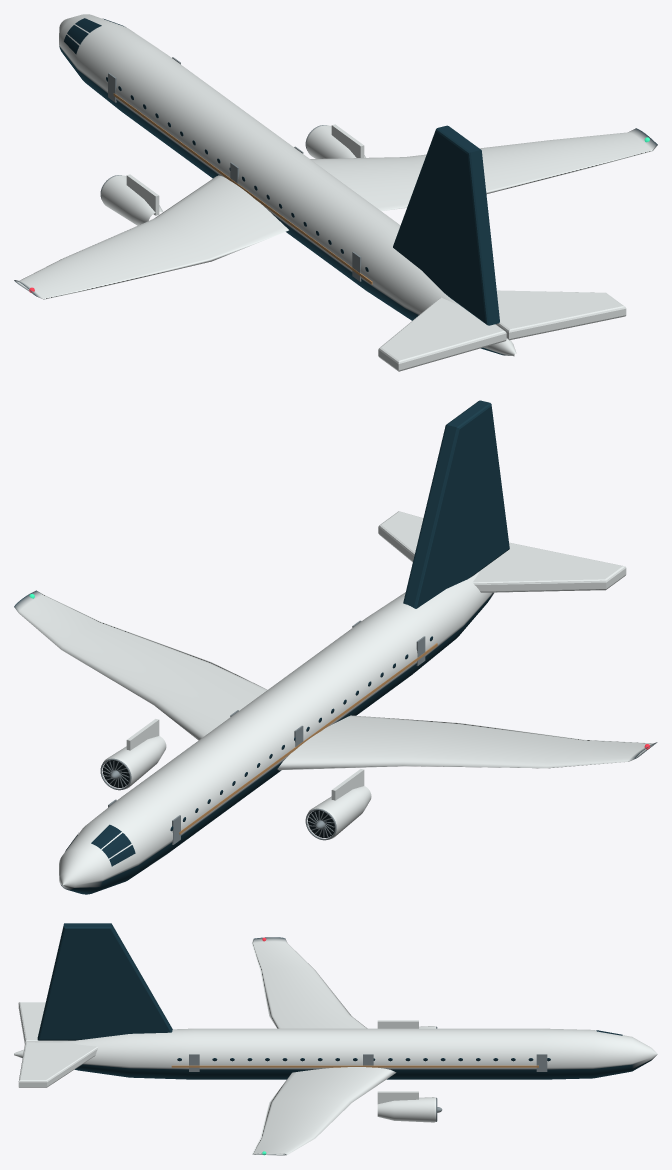
3 views of the same model, one above another, from view 1: azimuth 30°, elevation 25°; view 2: azimuth 150°, elevation 25°; view 3: azimuth 270°, elevation 25° (orthographic). The views are drawn at different scales.
Size of the model in its own units: 28.72 by 9.86 by 36.24.
